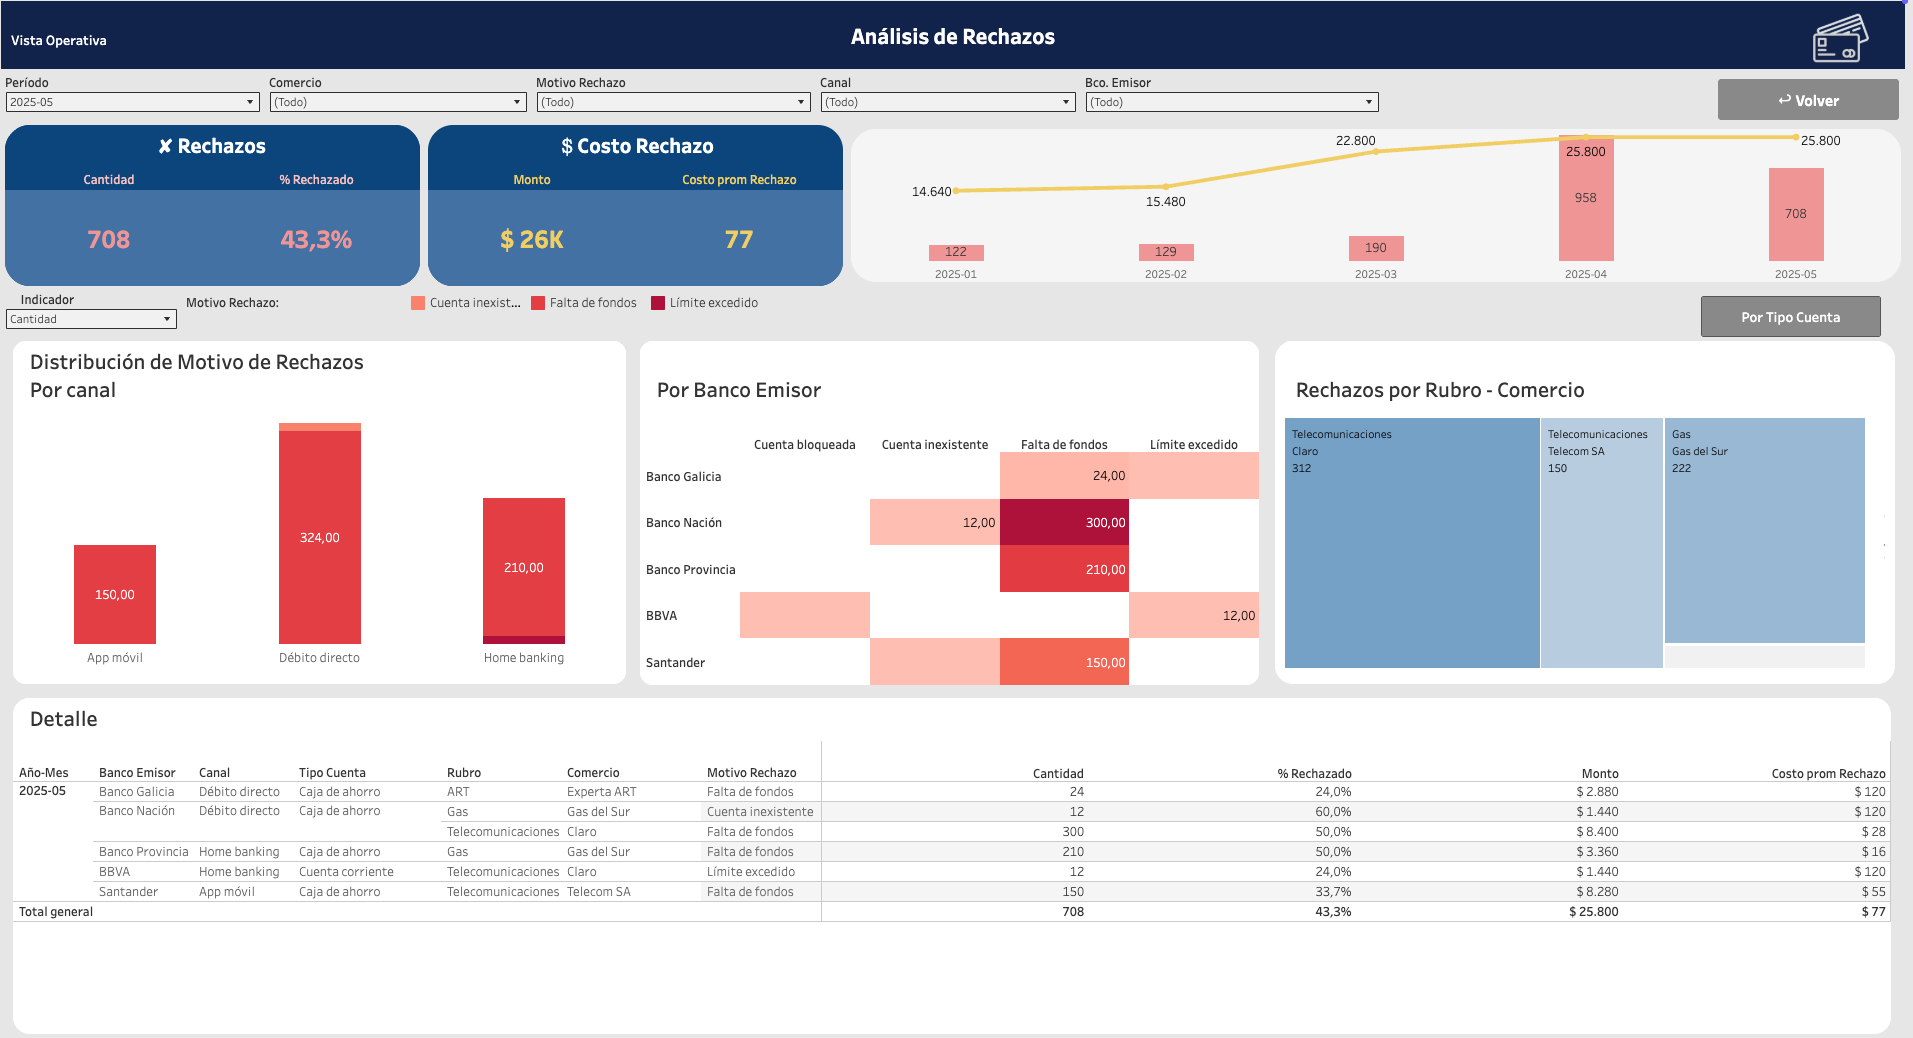

This screenshot's page, from the dashboard's own definition file:
{"tool":"tableau","page":{"name":"Operativa","canvas":[1000,1000],"units":"permille","ordinal":1},"visuals":[{"type":"image","param":"Image/dinero.png","box":[937,8.4,51.2,67.3]},{"type":"text","box":[6.5,11.2,986.9,63.7]},{"type":"text","box":[9.6,15.4,86,58.9]},{"type":"parameter","param":"[Parameters].[Parámetro 1]","box":[6.5,75,136.7,53.1]},{"type":"filter","title":"Banco Emisor","param":"[federated.1dm4qi00j3v8891f29u3813izzjt].[none:Comercio:nk]","box":[143.2,75,138.7,53.1]},{"type":"filter","title":"Banco Emisor","param":"[federated.1dm4qi00j3v8891f29u3813izzjt].[none:Motivo Rechazo:nk]","box":[281.9,75,147,53.1]},{"type":"filter","title":"Rechazos por canal","param":"[federated.1dm4qi00j3v8891f29u3813izzjt].[none:Canal:nk]","box":[428.9,75,137.7,53.1]},{"type":"filter","title":"Rechazos por canal","param":"[federated.1dm4qi00j3v8891f29u3813izzjt].[none:Banco Emisor:nk]","box":[566.6,75,156.9,53.1]},{"type":"blank","box":[723.5,75,270,53.1]},{"type":"dashboard-object","box":[898.6,81.4,94,39.3]},{"type":"worksheet","title":"Cant trx rechazadas","mark":"Automatic","box":[6.5,128,219.3,152]},{"type":"worksheet","title":"Costo rechazo","mark":"Automatic","box":[225.8,128,219.3,152]},{"type":"worksheet","title":"Evolucion rechazos costo","mark":"Line","rows":["Cant. Rechazos","Costo Rechazo ($)"],"cols":["Año-Mes"],"box":[445.1,128,548.2,152]},{"type":"parameter","param":"[Parameters].[Parámetro 2]","box":[6.5,280.1,148,51.6]},{"type":"text","box":[154.5,280.1,61.1,51.6]},{"type":"legend","title":"Rechazos por canal","param":"[federated.1dm4qi00j3v8891f29u3813izzjt].[none:Motivo Rechazo:nk]","box":[215.7,280.1,666.4,51.6]},{"type":"blank","box":[882.1,280.1,111.4,51.6]},{"type":"dashboard-object","box":[889.3,287.5,94,39.3]},{"type":"worksheet","title":"Rechazos por canal","mark":"Automatic","rows":["Calculation_2438239869296678"],"cols":["Canal"],"box":[6.5,331,329.5,333.8]},{"type":"worksheet","title":"Banco Emisor","mark":"Square","rows":["Banco Emisor"],"cols":["Motivo Rechazo"],"box":[336.1,331,328.7,333.8]},{"type":"worksheet","title":"Rubro.Comercio","mark":"Automatic","box":[668,331,305,319.8]},{"type":"worksheet","title":"Por cuenta","mark":"Pie","box":[973,331,12.3,319.8]},{"type":"worksheet","title":"Detalle","mark":"Automatic","rows":["Año-Mes","Banco Emisor","Canal","Tipo Cuenta","Rubro","Comercio","Motivo Rechazo"],"box":[6.5,665,986.9,323.8]}]}

Visuals, with their boxes on the dashboard's canvas, which has no fixed pixel size, in thousandths of its width and height (x1, y1, x2, y2). These are canvas units, not pixel positions in the 1913x1038 screenshot, which may show the page scaled, cropped or inside an application window:
image: [left=937, top=8, right=988, bottom=76]
text: [left=6, top=11, right=993, bottom=75]
text: [left=10, top=15, right=96, bottom=74]
parameter: [left=6, top=75, right=143, bottom=128]
"Banco Emisor" filter: [left=143, top=75, right=282, bottom=128]
"Banco Emisor" filter: [left=282, top=75, right=429, bottom=128]
"Rechazos por canal" filter: [left=429, top=75, right=567, bottom=128]
"Rechazos por canal" filter: [left=567, top=75, right=724, bottom=128]
blank: [left=724, top=75, right=994, bottom=128]
dashboard-object: [left=899, top=81, right=993, bottom=121]
"Cant trx rechazadas" worksheet: [left=6, top=128, right=226, bottom=280]
"Costo rechazo" worksheet: [left=226, top=128, right=445, bottom=280]
"Evolucion rechazos costo" worksheet (Line marks): [left=445, top=128, right=993, bottom=280]
parameter: [left=6, top=280, right=154, bottom=332]
text: [left=154, top=280, right=216, bottom=332]
"Rechazos por canal" legend: [left=216, top=280, right=882, bottom=332]
blank: [left=882, top=280, right=994, bottom=332]
dashboard-object: [left=889, top=288, right=983, bottom=327]
"Rechazos por canal" worksheet: [left=6, top=331, right=336, bottom=665]
"Banco Emisor" worksheet (Square marks): [left=336, top=331, right=665, bottom=665]
"Rubro.Comercio" worksheet: [left=668, top=331, right=973, bottom=651]
"Por cuenta" worksheet (Pie marks): [left=973, top=331, right=985, bottom=651]
"Detalle" worksheet: [left=6, top=665, right=993, bottom=989]
